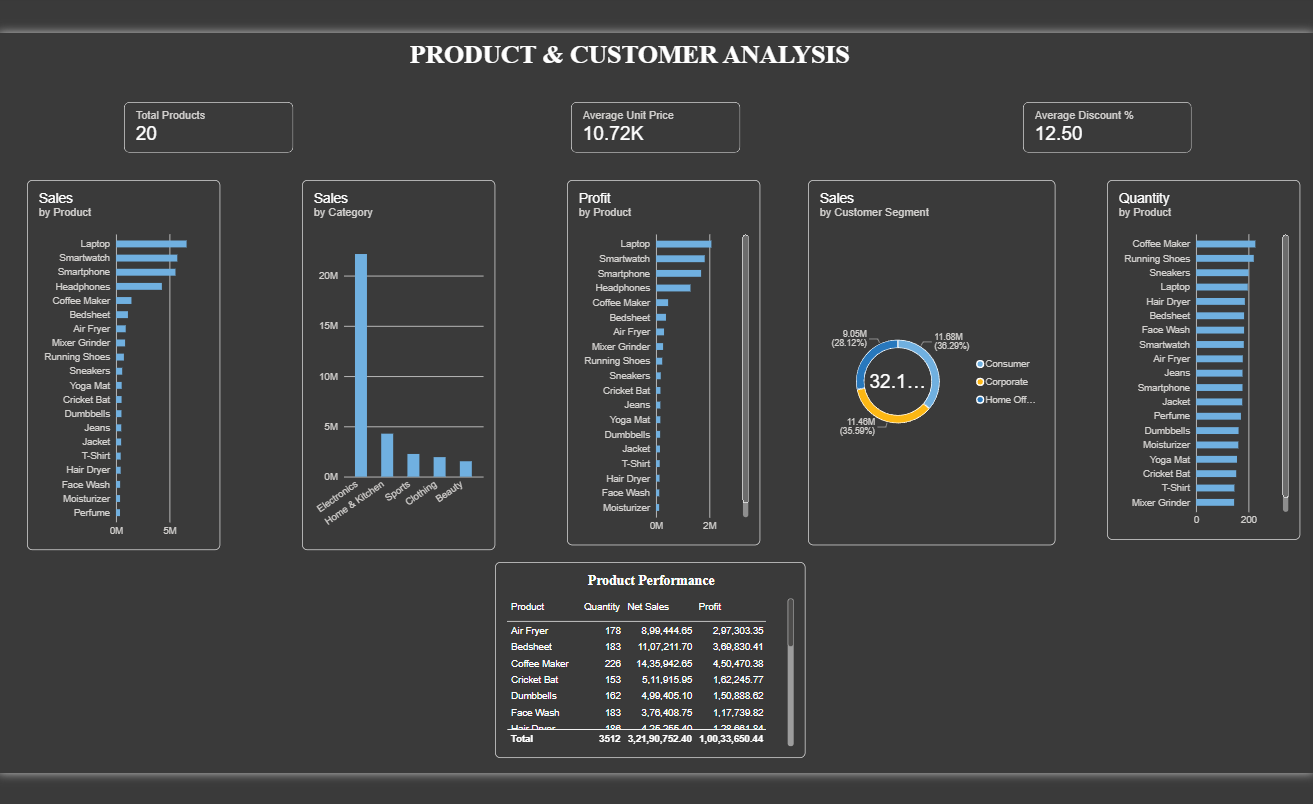

This screenshot's page, from the dashboard's own definition file:
{"tool":"powerbi","page":{"name":"Product & Customers Analysis","canvas":[1920,1080],"ordinal":1},"visuals":[{"type":"textbox","box":[549.7,10.8,743.1,58.9],"z":0},{"type":"cardVisual","fields":{"Data":["Count(ecommerce_sales_cleaned.Product)"]},"box":[183.6,101.1,247.4,74.6],"z":1},{"type":"cardVisual","fields":{"Data":["Avg(ecommerce_sales_cleaned.Unit_Price)"]},"box":[836.3,101.1,247.4,74.6],"z":2},{"type":"cardVisual","fields":{"Data":["Avg(ecommerce_sales_cleaned.Discount_Percent)"]},"box":[1495,101.1,246.4,74.6],"z":3},{"type":"clusteredBarChart","title":"Sales","fields":{"Category":["ecommerce_sales_cleaned.Product"],"Y":["Sum(ecommerce_sales_cleaned.Net_Sales)"]},"box":[42.2,214,281.7,539.9],"z":4},{"type":"clusteredColumnChart","title":"Sales","fields":{"Category":["ecommerce_sales_cleaned.Category"],"Y":["Sum(ecommerce_sales_cleaned.Net_Sales)"]},"box":[443.7,214,281.7,539.9],"z":5},{"type":"clusteredBarChart","title":"Profit","fields":{"Category":["ecommerce_sales_cleaned.Product"],"Y":["Sum(ecommerce_sales_cleaned.Profit)"]},"box":[830.4,214,281.7,533],"z":6},{"type":"donutChart","title":"Sales","fields":{"Category":["ecommerce_sales_cleaned.Customer_Segment"],"Y":["Sum(ecommerce_sales_cleaned.Net_Sales)"]},"box":[1181.8,214,361.2,533],"z":7},{"type":"clusteredBarChart","title":"Quantity","fields":{"Category":["ecommerce_sales_cleaned.Product"],"Y":["Sum(ecommerce_sales_cleaned.Quantity)"]},"box":[1618.7,214,281.7,525.2],"z":8},{"type":"tableEx","title":"Product  Performance","fields":{"Values":["ecommerce_sales_cleaned.Product","Sum(ecommerce_sales_cleaned.Quantity)","Sum(ecommerce_sales_cleaned.Net_Sales)","Sum(ecommerce_sales_cleaned.Profit)"]},"box":[725.4,771.5,453.5,285.6],"z":9}]}

Visuals, with their boxes on the page's 1920x1080 design canvas (x1, y1, x2, y2). These are canvas units, not pixel positions in the 1313x804 screenshot, which may show the page scaled, cropped or inside an application window:
textbox: <bbox>550, 11, 1293, 70</bbox>
cardVisual - Count(ecommerce_sales_cleaned.Product): <bbox>184, 101, 431, 176</bbox>
cardVisual - Avg(ecommerce_sales_cleaned.Unit_Price): <bbox>836, 101, 1084, 176</bbox>
cardVisual - Avg(ecommerce_sales_cleaned.Discount_Percent): <bbox>1495, 101, 1741, 176</bbox>
"Sales" clusteredBarChart: <bbox>42, 214, 324, 754</bbox>
"Sales" clusteredColumnChart: <bbox>444, 214, 725, 754</bbox>
"Profit" clusteredBarChart: <bbox>830, 214, 1112, 747</bbox>
"Sales" donutChart: <bbox>1182, 214, 1543, 747</bbox>
"Quantity" clusteredBarChart: <bbox>1619, 214, 1900, 739</bbox>
"Product  Performance" tableEx: <bbox>725, 772, 1179, 1057</bbox>
